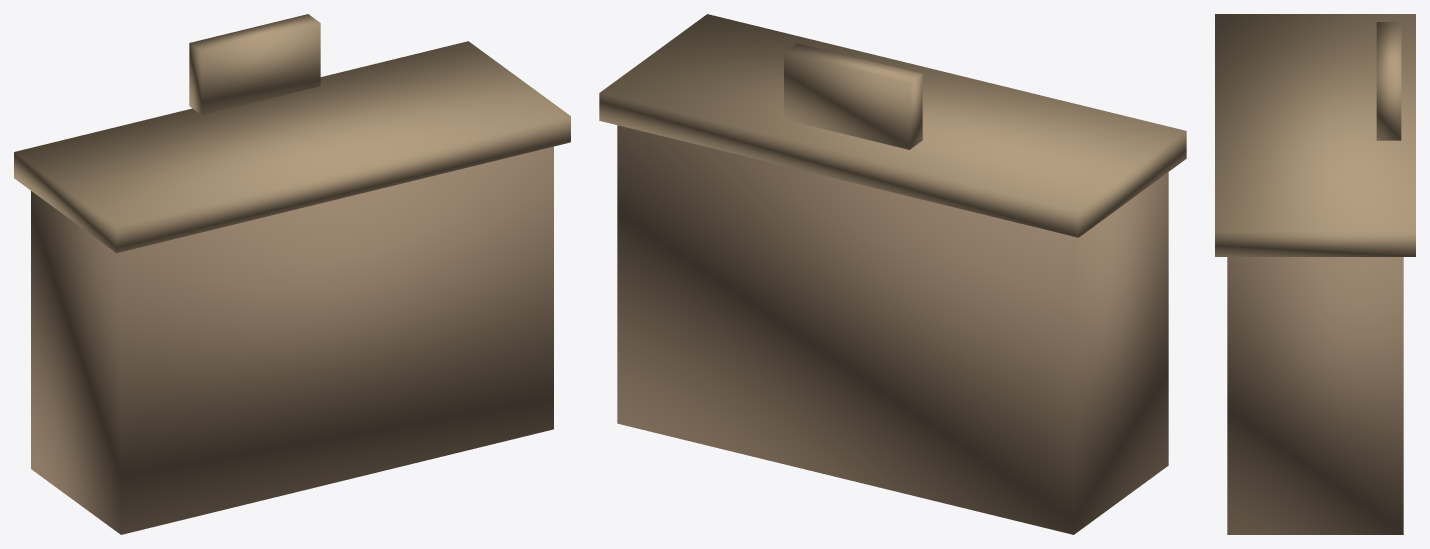
File: judge_bench__tall.glb
3 views of the same model, side by side, from view 1: azimuth 30°, elevation 25°; view 2: azimuth 150°, elevation 25°; view 3: azimuth 270°, elevation 25° (orthographic). The views are drawn at different scales.
Parts seen in each view (by area): view 1: world; view 2: world; view 3: world.
Boxes of the visible parts, left/top/right/bottom form: world: left=14, top=14, right=570, bottom=534; world: left=599, top=14, right=1186, bottom=534; world: left=1215, top=14, right=1415, bottom=534.
Bounding box in the file's own units: 2.1 × 1.72 × 0.82.
